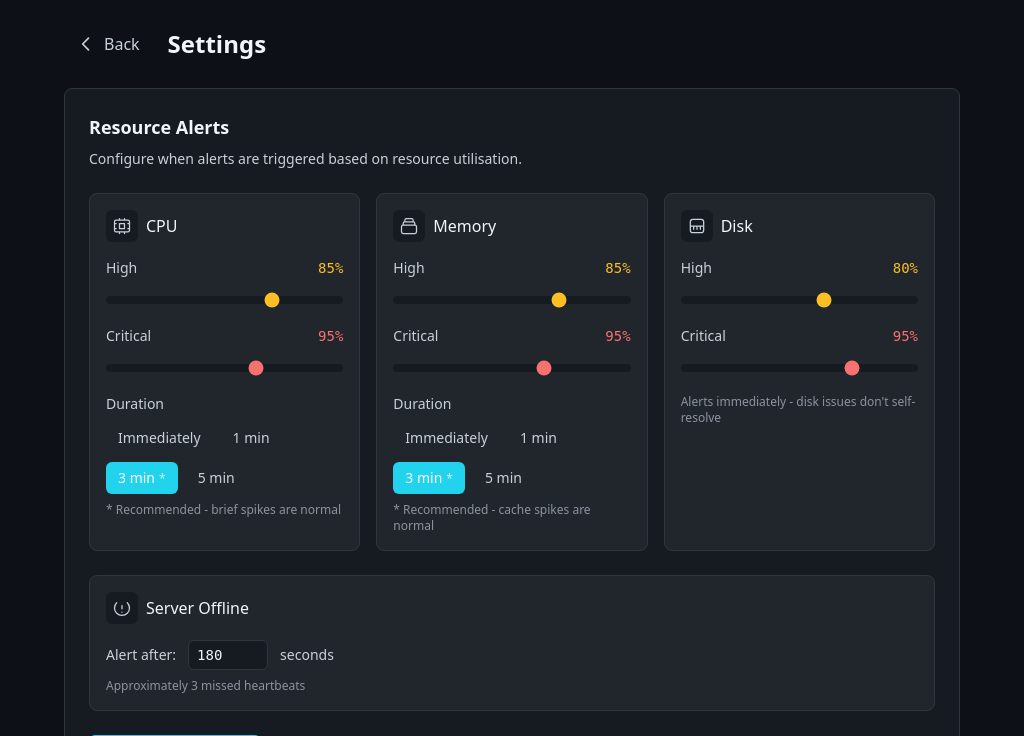
Scenario: Settings Page › Per-metric threshold sliders (TC043) › updates displayed value when slider changes
Set the slider with test id "cpu-high-slider" to "90" at (295, 300), box [106,296,343,304]
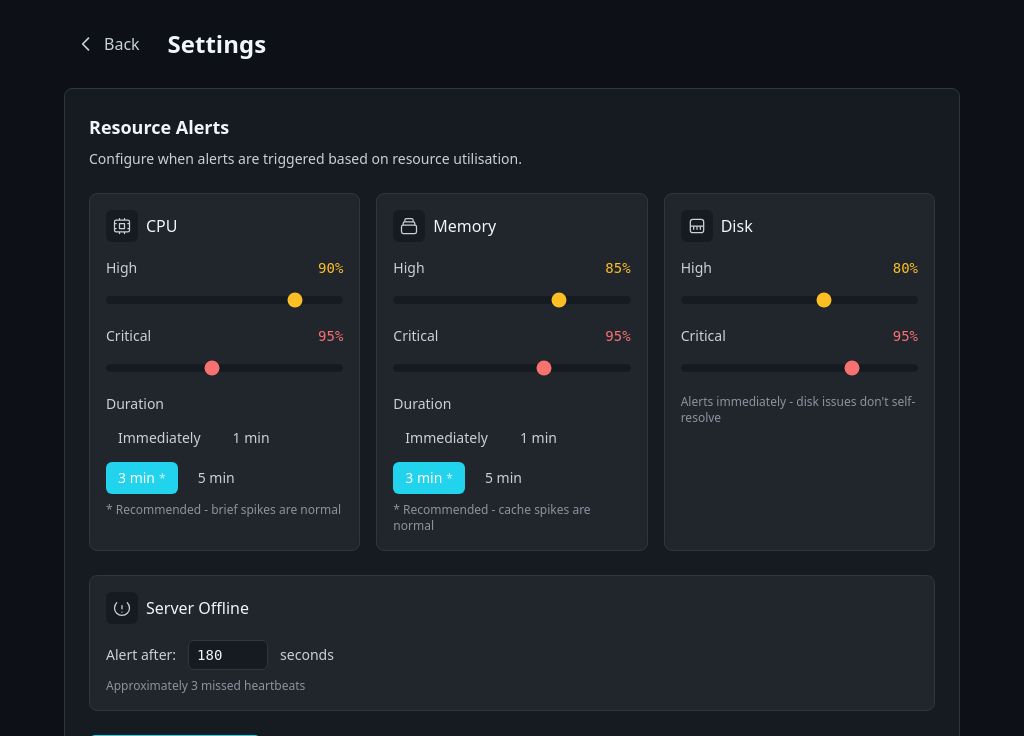
Expected: the text "90%" is shown, [318,258,343,278]
